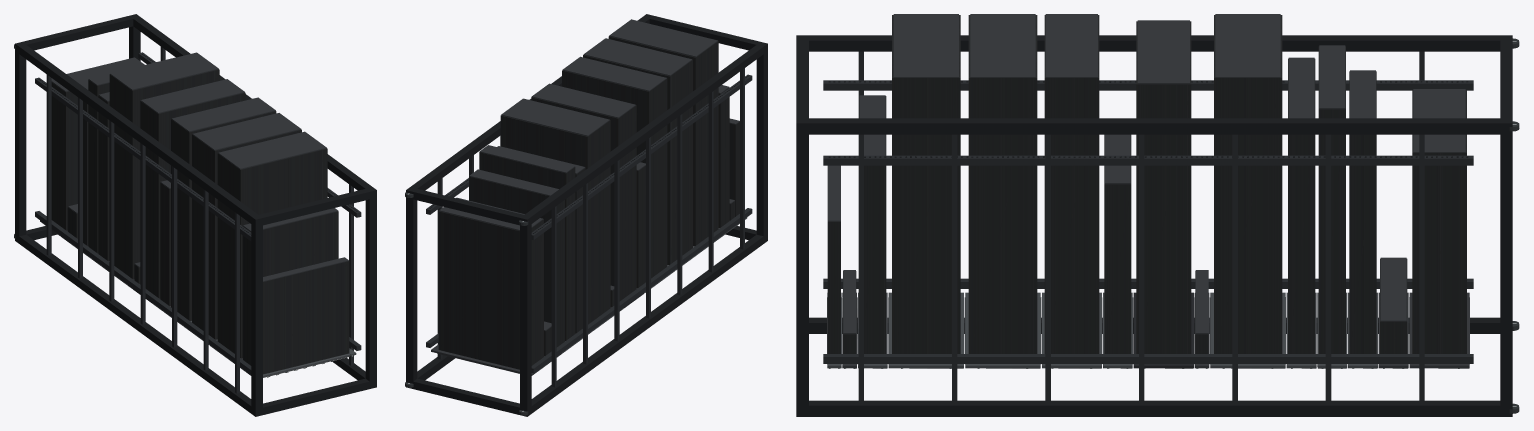
The model's file is storage-42u.glb.
3 views of the same model, side by side, from view 1: azimuth 30°, elevation 25°; view 2: azimuth 150°, elevation 25°; view 3: azimuth 270°, elevation 25° (orthographic). The views are drawn at different scales.
Visible parts, largest first — view 1: RACK_FRAME__nexus_black_dark, SAS_FABRIC__steel_textured, SIDE_BRACES__nexus_black, ME4084_A__steel_textured, ME484__steel_textured, CONTROLLER_HEAD__steel_textured, ME4084_B__steel_textured, TAPE_LIBRARY__steel_textured, MOUNTING_RAILS__nexus_black, STORAGE_UPS__steel_textured, DS460_C__steel_textured, ME484__store_grey_dark (+12 smaller); view 2: RACK_FRAME__nexus_black_dark, STORAGE_UPS__steel_textured, SIDE_BRACES__nexus_black, ME484__steel_textured, DS460_C__steel_textured, ME4084_A__steel_textured, TAPE_LIBRARY__steel_textured, ME4084_B__steel_textured, MOUNTING_RAILS__nexus_black, DD3300__steel_textured, R760XD2__steel_textured, ME4084_A__store_grey_dark (+11 smaller); view 3: RACK_FRAME__nexus_black_dark, ME4084_B__steel_textured, ME484__steel_textured, MOUNTING_RAILS__nexus_black, ME4084_A__steel_textured, DS460_C__steel_textured, TAPE_LIBRARY__steel_textured, SIDE_BRACES__nexus_black, STORAGE_UPS__steel_textured, POWERSTORE_500T__steel_textured, DD3300__steel_textured, R760XD2__steel_textured (+25 smaller).
Part boxes in pixels (<box>): RACK_FRAME__nexus_black_dark: <box>15,14,376,416</box>; SAS_FABRIC__steel_textured: <box>263,261,349,374</box>; SIDE_BRACES__nexus_black: <box>46,46,353,393</box>; ME4084_A__steel_textured: <box>217,148,327,358</box>; ME484__steel_textured: <box>109,69,219,279</box>; CONTROLLER_HEAD__steel_textured: <box>242,211,338,365</box>; ME4084_B__steel_textured: <box>192,129,301,339</box>; TAPE_LIBRARY__steel_textured: <box>140,92,245,298</box>; MOUNTING_RAILS__nexus_black: <box>35,52,361,374</box>; STORAGE_UPS__steel_textured: <box>51,82,77,230</box>; DS460_C__steel_textured: <box>171,111,276,320</box>; ME484__store_grey_dark: <box>110,52,218,90</box>; RACK_FRAME__nexus_black_dark: <box>406,14,767,416</box>; STORAGE_UPS__steel_textured: <box>438,211,543,369</box>; SIDE_BRACES__nexus_black: <box>437,68,744,387</box>; ME484__steel_textured: <box>500,115,610,324</box>; DS460_C__steel_textured: <box>562,70,667,278</box>; ME4084_A__steel_textured: <box>608,36,718,246</box>; TAPE_LIBRARY__steel_textured: <box>531,97,636,301</box>; ME4084_B__steel_textured: <box>583,55,692,264</box>; MOUNTING_RAILS__nexus_black: <box>426,74,752,373</box>; DD3300__steel_textured: <box>469,176,564,347</box>; R760XD2__steel_textured: <box>479,152,575,340</box>; ME4084_A__store_grey_dark: <box>609,19,717,57</box>; RACK_FRAME__nexus_black_dark: <box>796,35,1512,416</box>; ME4084_B__steel_textured: <box>968,15,1037,353</box>; ME484__steel_textured: <box>1214,15,1282,353</box>; MOUNTING_RAILS__nexus_black: <box>823,80,1473,363</box>; ME4084_A__steel_textured: <box>892,15,960,353</box>; DS460_C__steel_textured: <box>1044,15,1099,353</box>; TAPE_LIBRARY__steel_textured: <box>1136,21,1191,353</box>; SIDE_BRACES__nexus_black: <box>858,51,1424,404</box>; STORAGE_UPS__steel_textured: <box>1412,90,1466,353</box>; POWERSTORE_500T__steel_textured: <box>1288,58,1315,353</box>; DD3300__steel_textured: <box>1349,71,1376,353</box>; R760XD2__steel_textured: <box>1318,46,1345,353</box>.
Bounding box in the file's own units: 0.609 × 1.05 × 2.1.
Materials: 27 (5 with a texture image).
